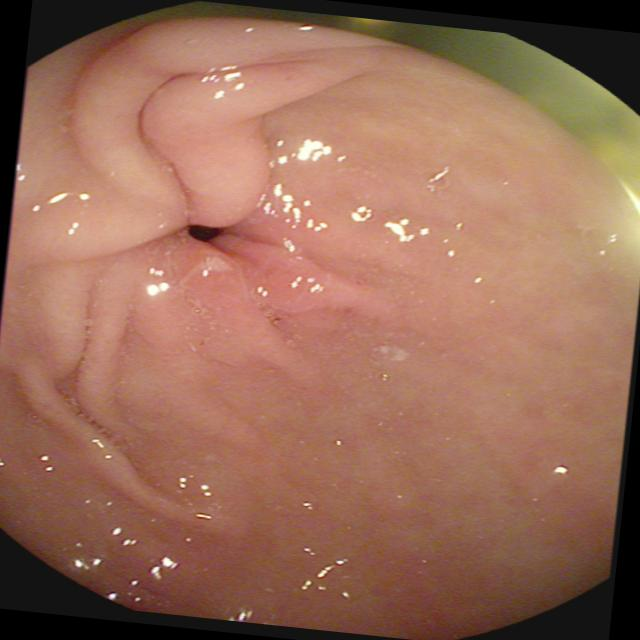normal-pylorus: (0, 10, 402, 441)
